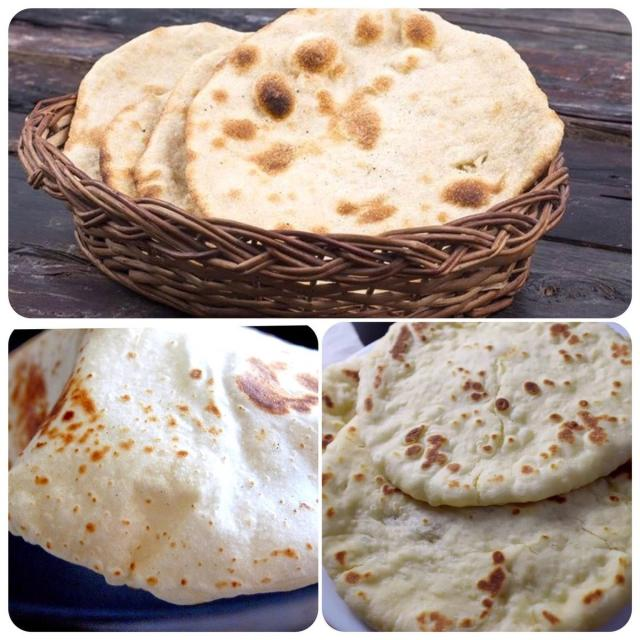roti: (8, 326, 320, 608), (183, 9, 563, 235), (322, 418, 631, 632), (356, 321, 630, 505), (64, 22, 249, 179), (135, 50, 226, 216), (100, 93, 168, 197), (322, 356, 362, 453)
